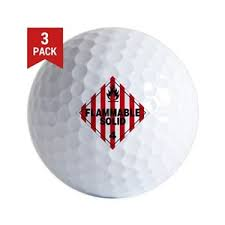FlammableSolid: (79, 77, 149, 150)
